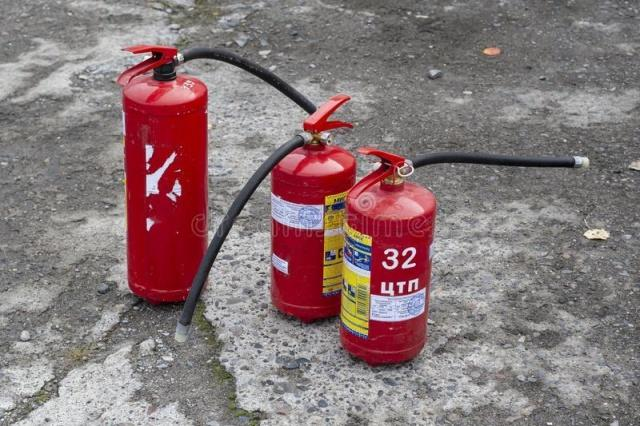APAR: (118, 44, 207, 304), (339, 146, 436, 366), (267, 94, 355, 322)
